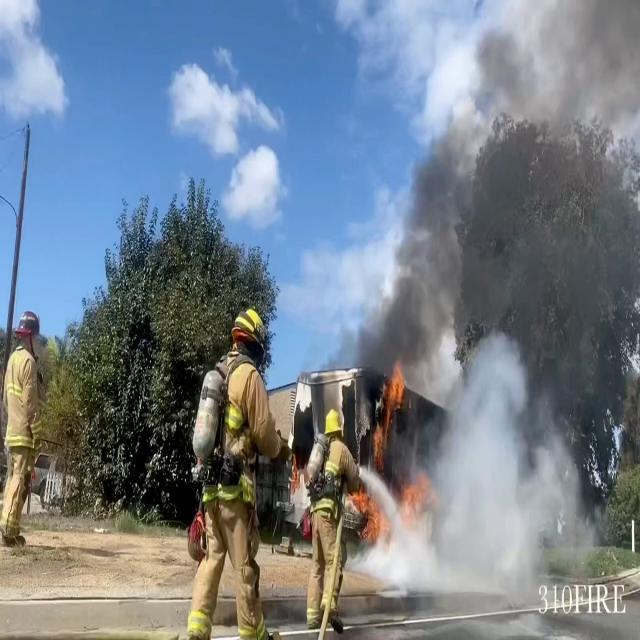Fire: (372, 350, 408, 454)
Smoke: (370, 319, 598, 606), (414, 0, 640, 284)
